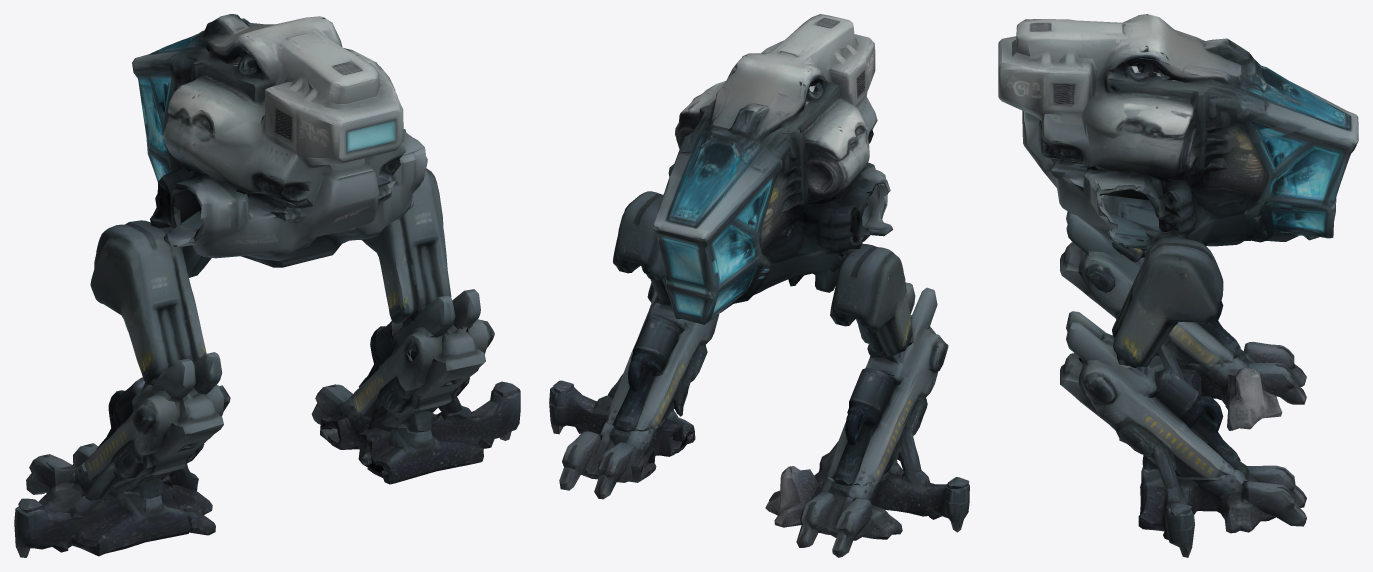
Rendered from light_cc59ad_v2.glb.
3 views of the same model, side by side, from view 1: azimuth 30°, elevation 25°; view 2: azimuth 150°, elevation 25°; view 3: azimuth 270°, elevation 25° (orthographic). The views are drawn at different scales.
Visible parts, largest first — view 1: hull, shin_l, shin_r, thigh_l, foot_l, foot_r, thigh_r; view 2: hull, shin_l, shin_r, foot_l, foot_r, thigh_l, thigh_r; view 3: hull, shin_r, thigh_r, foot_r, shin_l, foot_l.
Part boxes in pixels (left/top/right/bottom): hull: left=132, top=14, right=427, bottom=535; shin_l: left=18, top=352, right=224, bottom=513; shin_r: left=349, top=289, right=520, bottom=432; thigh_l: left=90, top=220, right=206, bottom=386; foot_l: left=14, top=443, right=190, bottom=557; foot_r: left=311, top=378, right=520, bottom=484; thigh_r: left=360, top=168, right=451, bottom=323; hull: left=652, top=14, right=893, bottom=527; shin_l: left=828, top=282, right=969, bottom=488; shin_r: left=553, top=282, right=719, bottom=432; foot_l: left=796, top=460, right=969, bottom=557; foot_r: left=549, top=387, right=695, bottom=499; thigh_l: left=830, top=236, right=913, bottom=356; thigh_r: left=613, top=191, right=669, bottom=300; hull: left=998, top=14, right=1358, bottom=430; shin_r: left=1060, top=311, right=1240, bottom=515; thigh_r: left=1107, top=230, right=1223, bottom=367; foot_r: left=1138, top=461, right=1306, bottom=557; shin_l: left=1060, top=211, right=1240, bottom=364; foot_l: left=1148, top=341, right=1306, bottom=404.
Bounding box in the file's own units: 3.45 × 3.24 × 2.47.
1 material, 1 textured.
